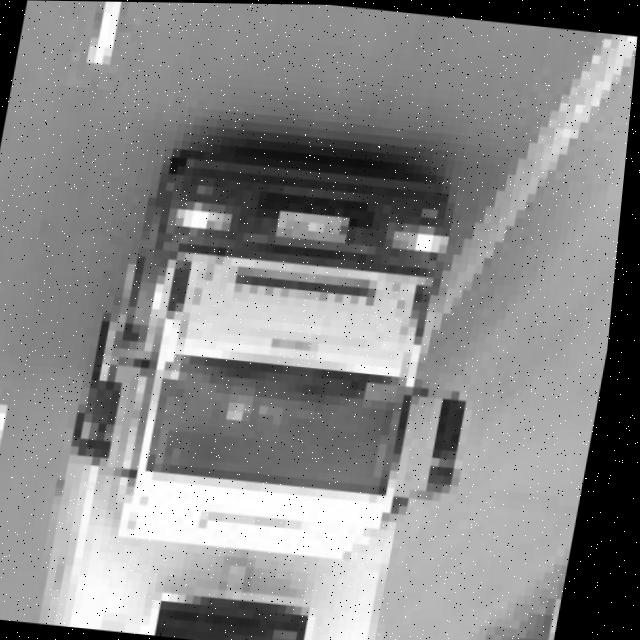truck: (49, 142, 505, 589)
